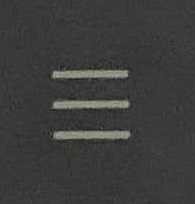menu: (37, 54, 142, 156)
